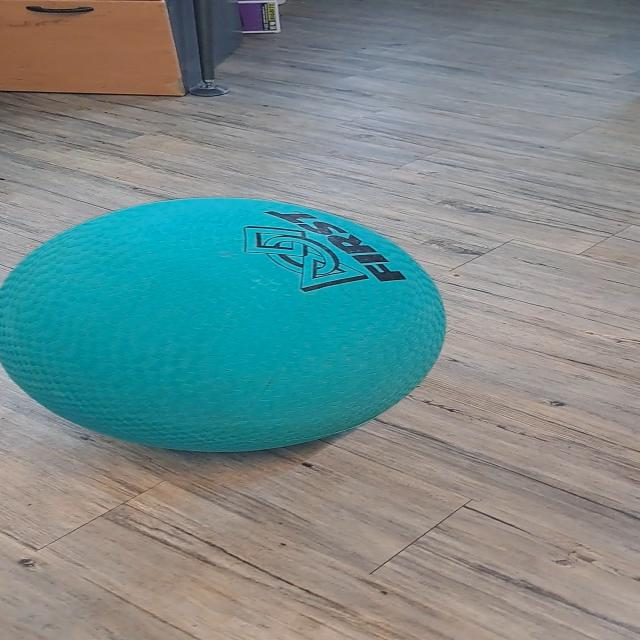ALGAE: (1, 195, 448, 453)
